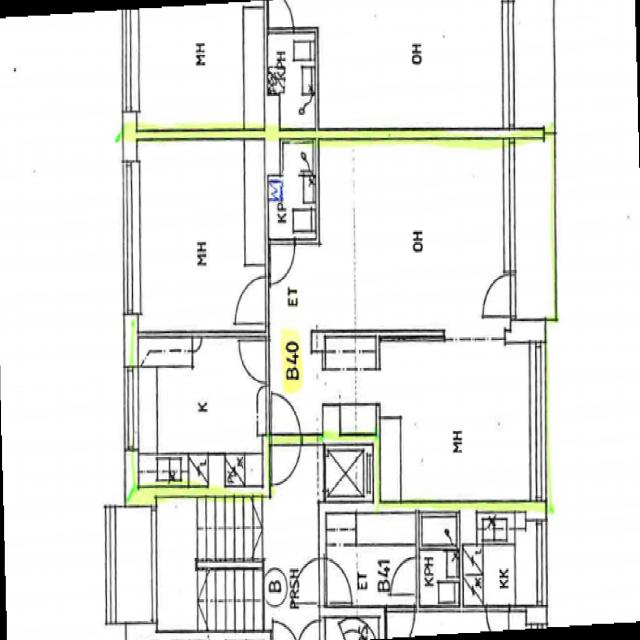door: (476, 274, 515, 316), (272, 434, 300, 490), (236, 278, 270, 324), (272, 390, 300, 445), (240, 341, 269, 380), (271, 237, 294, 279)
